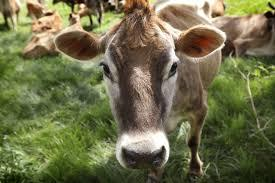cow: (55, 0, 225, 180), (207, 13, 275, 62), (22, 32, 70, 62), (30, 6, 65, 34)
